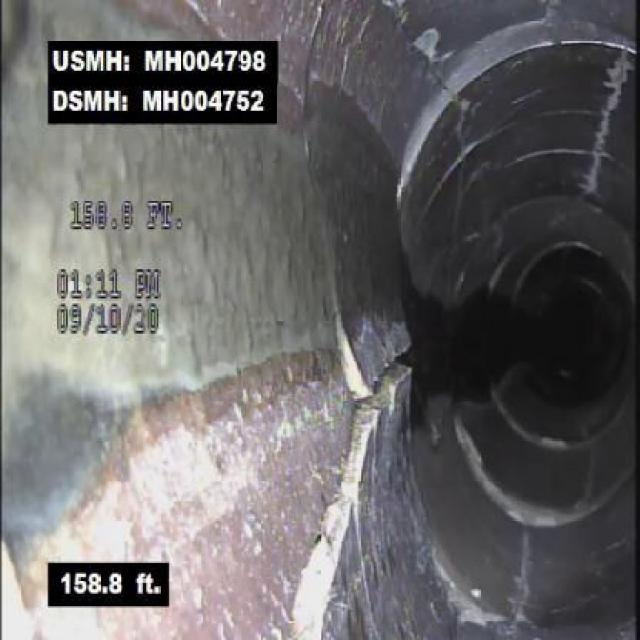Buckling: (274, 287, 426, 638)
Crack: (492, 530, 537, 638)
Joint offset: (392, 20, 480, 194), (484, 11, 634, 69)
